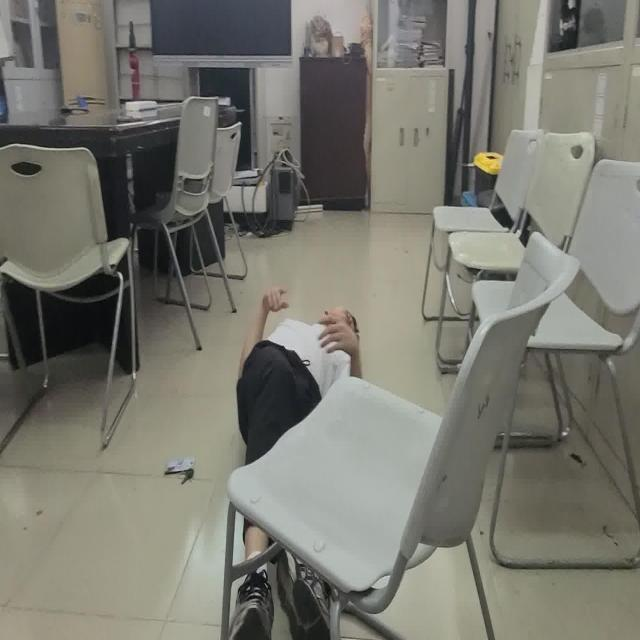fall: (233, 285, 366, 640)
